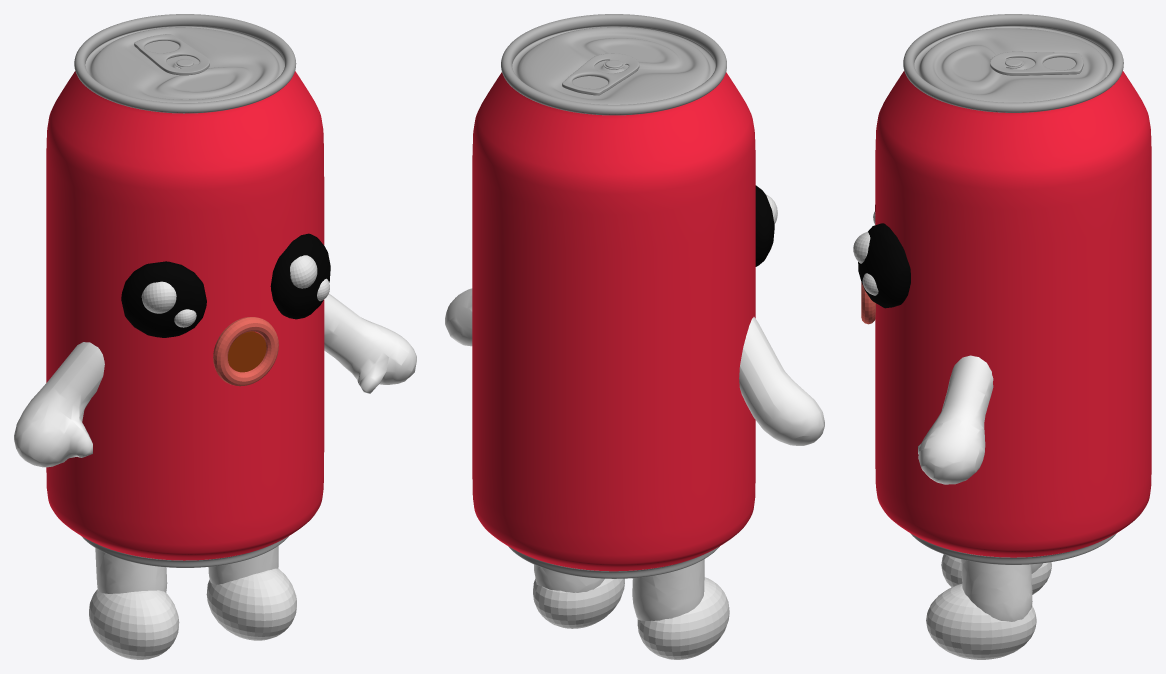
Rendered from soda_can.fbx.
The picture shows the model from 3 angles, left to right: view 1: azimuth 30°, elevation 25°; view 2: azimuth 150°, elevation 25°; view 3: azimuth 270°, elevation 25°; orthographic projection. The views are drawn at different scales.
Visible parts, largest first — view 1: cola, Mball, eye balls (×2), Sphere.004, Sphere.005, lips, mouth, Sphere, Sphere.001; view 2: cola, Mball, Sphere.004, Sphere.005, eye balls; view 3: cola, Mball, Sphere.005, eye balls, Sphere.004.
Part boxes in pixels (x1,y1,x2,y2): cola: (46, 14, 324, 567); Mball: (14, 293, 416, 593); eye balls (×2): (121, 233, 330, 337); Sphere.004: (89, 589, 179, 659); Sphere.005: (206, 568, 296, 640); lips: (213, 317, 278, 386); mouth: (228, 331, 266, 372); Sphere: (141, 281, 176, 313); Sphere.001: (290, 255, 317, 288); cola: (472, 14, 755, 578); Mball: (445, 288, 824, 620); Sphere.004: (637, 577, 729, 659); Sphere.005: (533, 578, 624, 628); eye balls: (755, 185, 774, 266); cola: (875, 14, 1151, 564); Mball: (918, 355, 1042, 621); Sphere.005: (926, 584, 1036, 659); eye balls: (858, 223, 910, 308); Sphere.004: (941, 554, 1051, 594).
Bounding box in the file's own units: 273 × 395 × 187.
